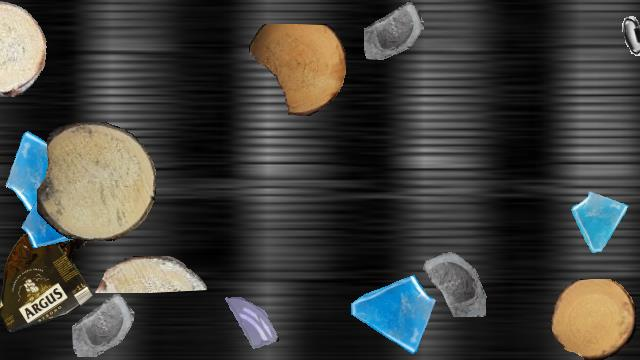glass: (3, 124, 95, 216), (347, 269, 437, 359), (413, 240, 489, 316), (568, 190, 632, 254), (21, 190, 85, 254), (72, 294, 134, 356), (364, 1, 424, 61), (222, 295, 280, 353)
metal: (615, 1, 640, 63), (623, 51, 640, 99), (0, 107, 13, 145)
plastic: (0, 224, 93, 332)
wood: (37, 122, 155, 240), (249, 24, 345, 116), (551, 279, 635, 359), (0, 1, 47, 97), (93, 256, 207, 292)
